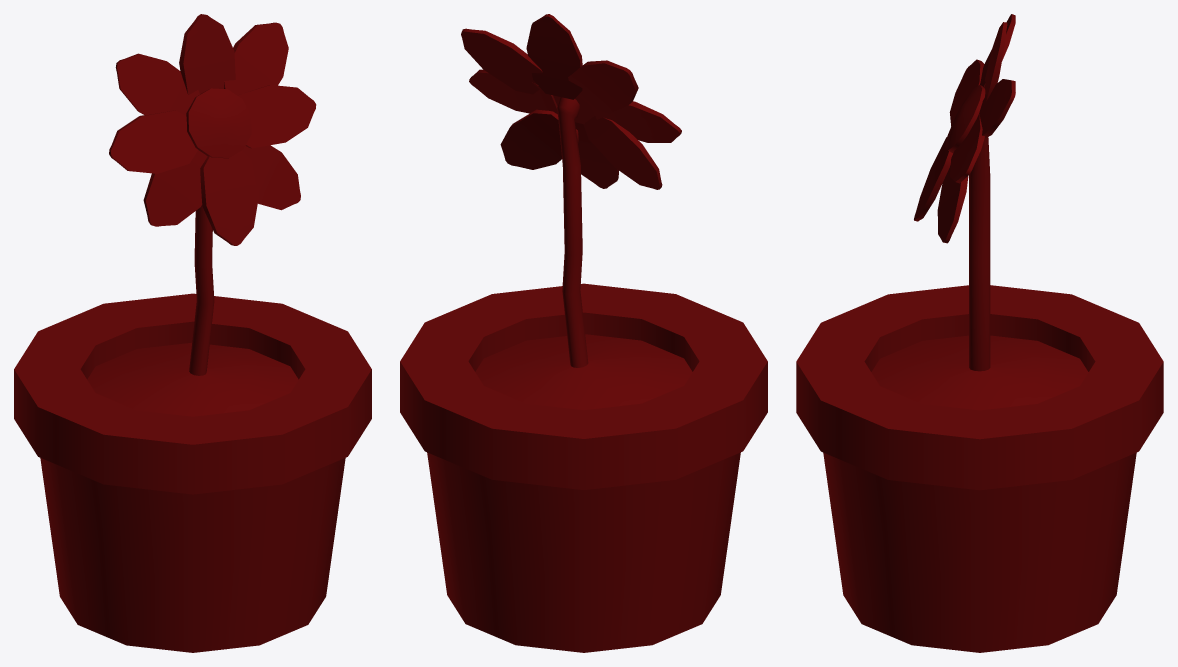
The model's file is flower.FBX.
The picture shows the model from 3 angles, left to right: view 1: azimuth 30°, elevation 25°; view 2: azimuth 150°, elevation 25°; view 3: azimuth 270°, elevation 25°; orthographic projection. The views are drawn at different scales.
Visible parts, largest first — view 1: Cylinder001, Object002, Box002, Cylinder002, Box004, Box005, Object006, Box006, Object004, Object005; view 2: Cylinder001, Object006, Object005, Box006, Object004, Box004, Box002, Box005, Object002; view 3: Cylinder001, Object005, Box006, Box005, Cylinder002, Object002, Box002, Object006.
Part boxes in pixels (left/top/right/bottom): Cylinder001: left=14, top=205, right=371, bottom=652; Object002: left=200, top=151, right=258, bottom=245; Box002: left=109, top=110, right=197, bottom=173; Cylinder002: left=186, top=88, right=251, bottom=158; Box004: left=115, top=53, right=199, bottom=115; Box005: left=238, top=85, right=316, bottom=148; Object006: left=179, top=14, right=235, bottom=94; Box006: left=224, top=22, right=288, bottom=95; Object004: left=143, top=139, right=207, bottom=226; Object005: left=242, top=145, right=300, bottom=210; Cylinder001: left=400, top=97, right=767, bottom=652; Object006: left=526, top=14, right=582, bottom=99; Object005: left=500, top=109, right=579, bottom=169; Box006: left=461, top=28, right=542, bottom=94; Object004: left=583, top=115, right=662, bottom=189; Box004: left=568, top=60, right=638, bottom=113; Box002: left=592, top=101, right=681, bottom=142; Box005: left=469, top=69, right=557, bottom=113; Object002: left=575, top=122, right=618, bottom=188; Cylinder001: left=796, top=137, right=1163, bottom=652; Object005: left=937, top=165, right=968, bottom=243; Box006: left=979, top=79, right=1015, bottom=138; Box005: left=950, top=114, right=984, bottom=183; Cylinder002: left=945, top=85, right=985, bottom=152; Object002: left=914, top=137, right=952, bottom=221; Box002: left=949, top=59, right=984, bottom=126; Object006: left=984, top=22, right=1007, bottom=101.
Bounding box in the file's own units: 9.75 × 17.1 × 9.75.
